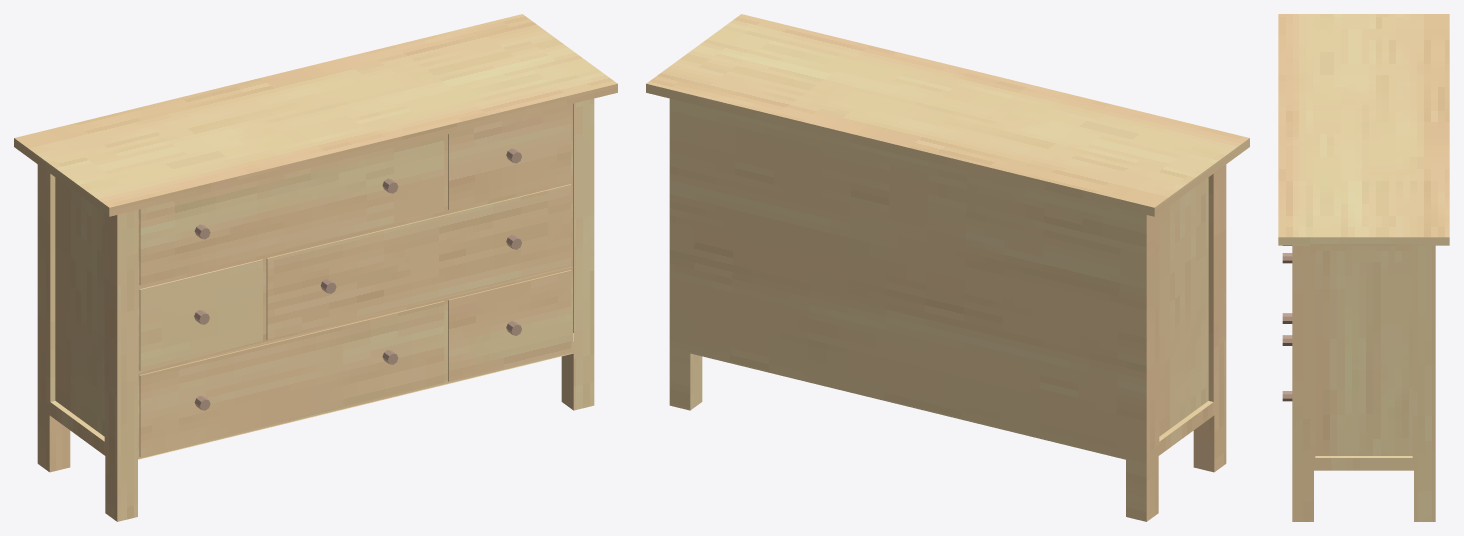
File: dresser-washed-webp.glb
3 views of the same model, side by side, from view 1: azimuth 30°, elevation 25°; view 2: azimuth 150°, elevation 25°; view 3: azimuth 270°, elevation 25° (orthographic). The views are drawn at different scales.
Parts seen in each view (by area): view 1: Dresser, Dresser.001; view 2: Dresser; view 3: Dresser, Dresser.001.
Boxes of the visible parts, x1,y1,x2,y2 form: Dresser: [14, 14, 617, 521]; Dresser.001: [194, 148, 521, 410]; Dresser: [646, 14, 1249, 521]; Dresser: [1278, 14, 1449, 521]; Dresser.001: [1282, 245, 1292, 401].
Size of the model in its own units: 1.03 by 0.6257 by 0.3338.
2 materials, 2 textured.
